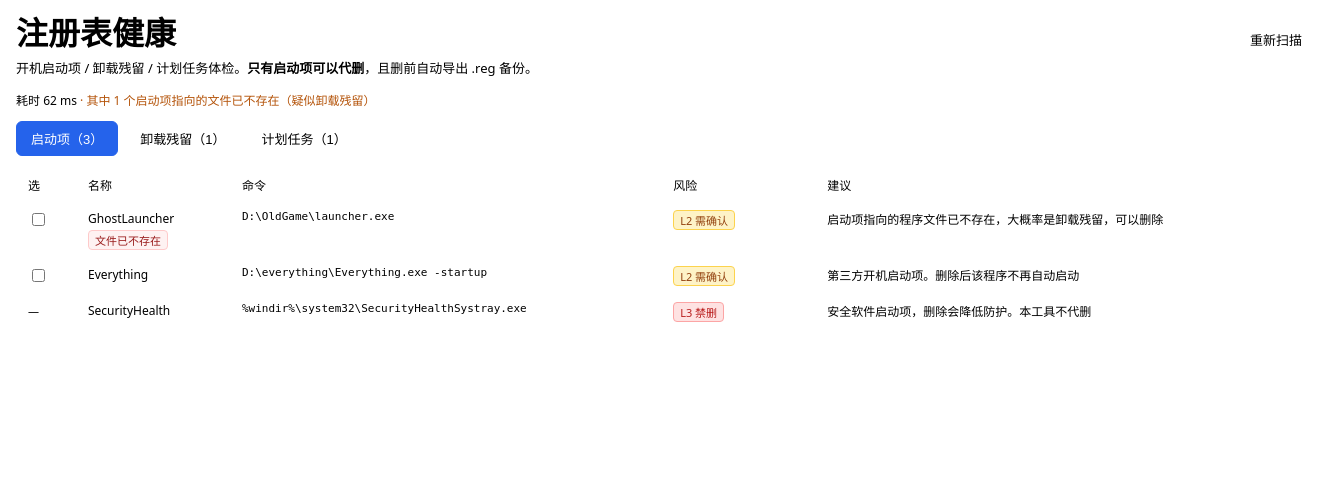
it: 注册表健康中心 › 2002（L3 红线）时给出明确提示
Check: the text "GhostLauncher" is shown, box left=88, top=210, right=174, bottom=227
Click the checkbox named "选择 GhostLauncher": [38, 220] box left=32, top=213, right=45, bottom=226
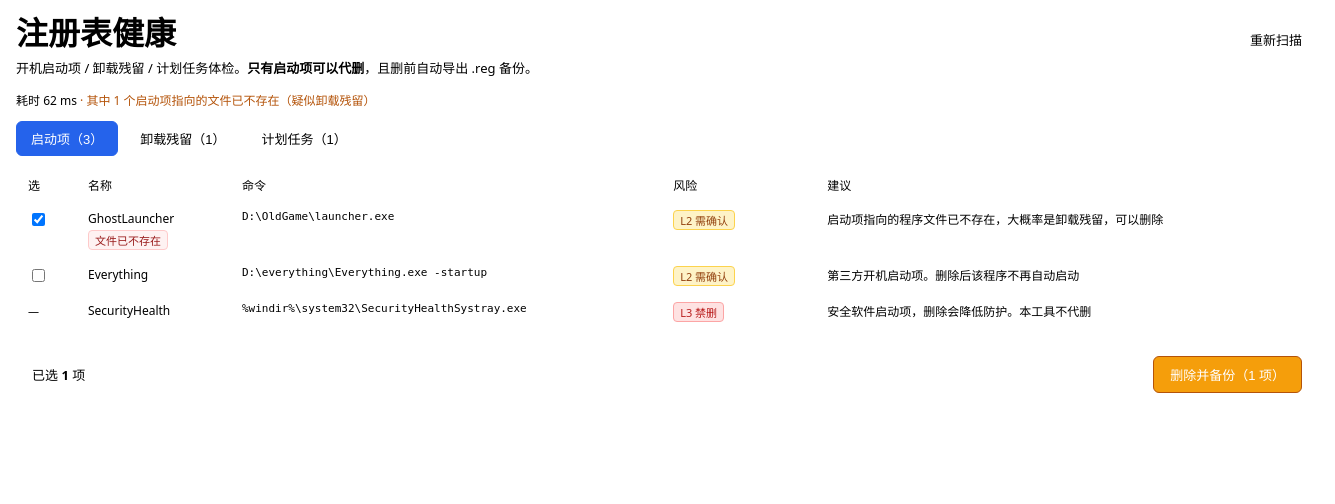
Click the button "删除并备份（1 项）": [1228, 374] box left=1153, top=356, right=1302, bottom=393
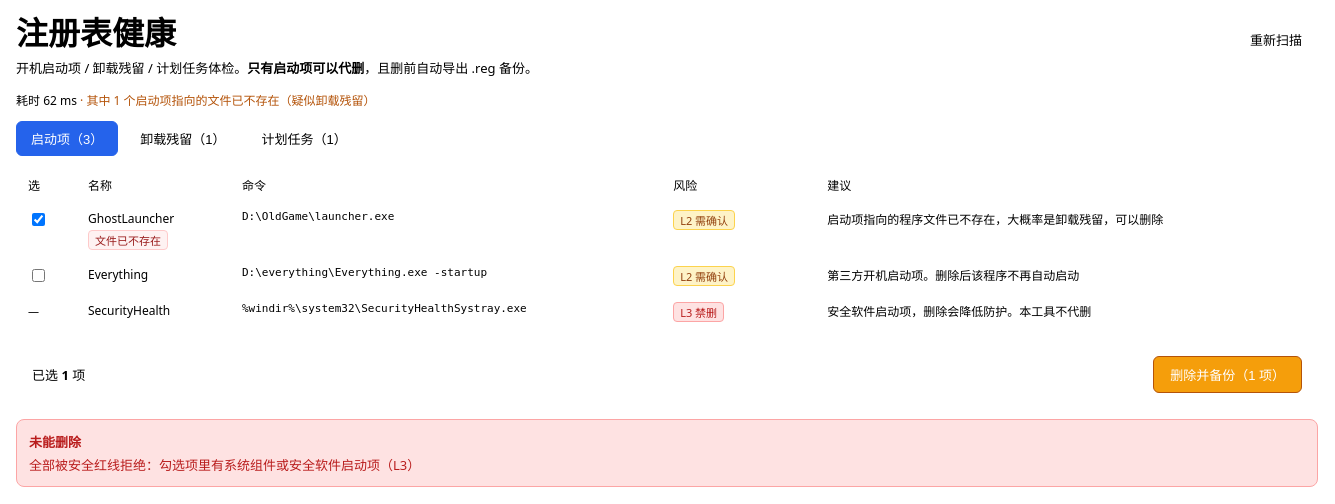
Check: the text "未能删除" is shown, box left=29, top=433, right=81, bottom=451
Check: the text "全部被安全红线拒绝：勾选项里有系统组件或安全软件启动项（L3）" is shown, box left=29, top=456, right=420, bottom=474
